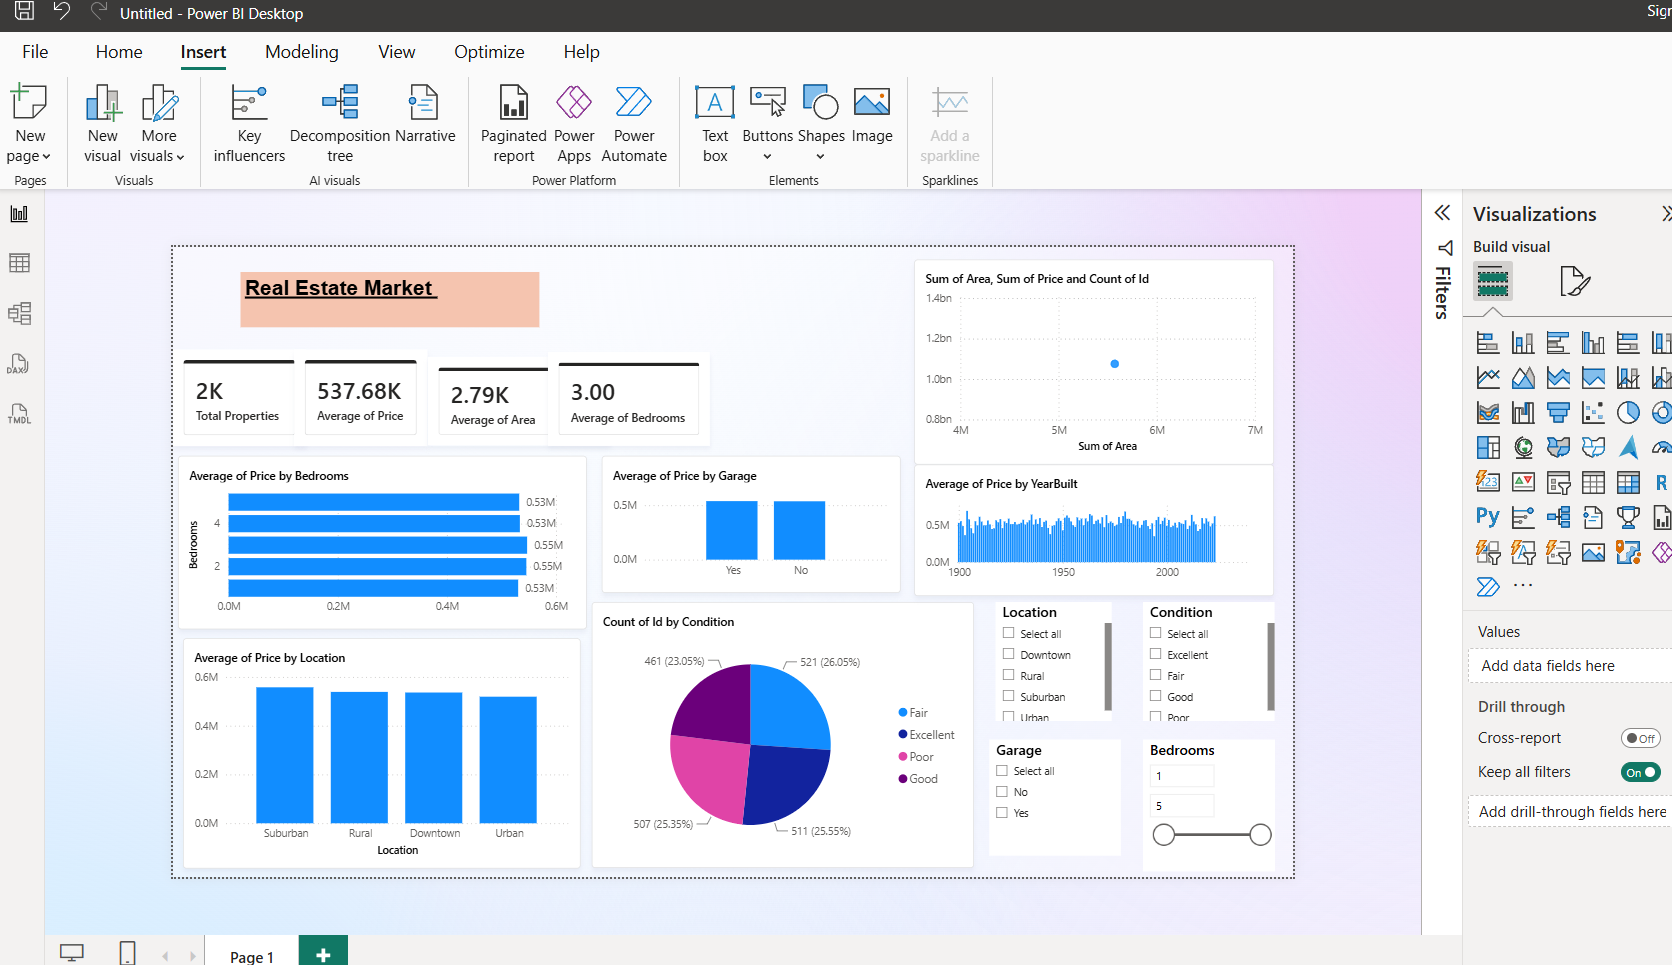

Layout of this report page (visuals, bound fields, positions):
{"tool":"powerbi","page":{"name":"Page 1","canvas":[1280,720],"ordinal":0},"visuals":[{"type":"cardVisual","fields":{"Data":["CountNonNull(House Price Prediction Dataset.Id)"]},"box":[0,117.1,152.9,110],"z":0},{"type":"cardVisual","fields":{"Data":["Avg(House Price Prediction Dataset.Price)"]},"box":[138.6,117.1,152.9,110],"z":1000},{"type":"cardVisual","fields":{"Data":["Avg(House Price Prediction Dataset.Area)"]},"box":[291.4,125.7,208.6,101.4],"z":2000},{"type":"cardVisual","fields":{"Data":["Avg(House Price Prediction Dataset.Bedrooms)"]},"box":[428.6,120,185.7,107.1],"z":3000},{"type":"clusteredColumnChart","fields":{"Category":["House Price Prediction Dataset.Location"],"Y":["Avg(House Price Prediction Dataset.Price)"]},"box":[11.4,447.1,454.3,262.9],"z":4000},{"type":"pieChart","fields":{"Category":["House Price Prediction Dataset.Condition"],"Y":["CountNonNull(House Price Prediction Dataset.Id)"]},"box":[478.6,405.7,437.1,304.3],"z":5000},{"type":"scatterChart","fields":{"X":["Sum(House Price Prediction Dataset.Area)"],"Y":["Sum(House Price Prediction Dataset.Price)"]},"box":[847.1,14.3,411.4,234.3],"z":6000},{"type":"clusteredBarChart","fields":{"Category":["House Price Prediction Dataset.Bedrooms"],"Y":["Avg(House Price Prediction Dataset.Price)"]},"box":[5.7,238.6,467.1,198.6],"z":7000},{"type":"clusteredColumnChart","fields":{"Category":["House Price Prediction Dataset.Garage"],"Y":["Avg(House Price Prediction Dataset.Price)"]},"box":[490,238.6,341.4,157.1],"z":8000},{"type":"clusteredColumnChart","fields":{"Category":["House Price Prediction Dataset.YearBuilt"],"Y":["Avg(House Price Prediction Dataset.Price)"]},"box":[847,248,411,150],"z":9000},{"type":"slicer","fields":{"Values":["House Price Prediction Dataset.Location"]},"box":[940,405.7,132.9,135.7],"z":9001},{"type":"slicer","fields":{"Values":["House Price Prediction Dataset.Condition"]},"box":[1108.6,405.7,150,135.7],"z":9002},{"type":"slicer","fields":{"Values":["House Price Prediction Dataset.Garage"]},"box":[932.9,562.9,150,132.9],"z":9003},{"type":"slicer","fields":{"Values":["House Price Prediction Dataset.Bedrooms"]},"box":[1109,563,150,150],"z":9004},{"type":"textbox","box":[77.1,28.6,341.4,62.9],"z":9005}]}

Visuals, with their boxes on the page's 1280x720 design canvas (x1, y1, x2, y2). These are canvas units, not pixel positions in the 1672x965 screenshot, which may show the page scaled, cropped or inside an application window:
cardVisual - CountNonNull(House Price Prediction Dataset.Id): detection(0, 117, 153, 227)
cardVisual - Avg(House Price Prediction Dataset.Price): detection(139, 117, 292, 227)
cardVisual - Avg(House Price Prediction Dataset.Area): detection(291, 126, 500, 227)
cardVisual - Avg(House Price Prediction Dataset.Bedrooms): detection(429, 120, 614, 227)
clusteredColumnChart - House Price Prediction Dataset.Location x Avg(House Price Prediction Dataset.Price): detection(11, 447, 466, 710)
pieChart - House Price Prediction Dataset.Condition x CountNonNull(House Price Prediction Dataset.Id): detection(479, 406, 916, 710)
scatterChart - Sum(House Price Prediction Dataset.Area) x Sum(House Price Prediction Dataset.Price): detection(847, 14, 1258, 249)
clusteredBarChart - House Price Prediction Dataset.Bedrooms x Avg(House Price Prediction Dataset.Price): detection(6, 239, 473, 437)
clusteredColumnChart - House Price Prediction Dataset.Garage x Avg(House Price Prediction Dataset.Price): detection(490, 239, 831, 396)
clusteredColumnChart - House Price Prediction Dataset.YearBuilt x Avg(House Price Prediction Dataset.Price): detection(847, 248, 1258, 398)
slicer - House Price Prediction Dataset.Location: detection(940, 406, 1073, 541)
slicer - House Price Prediction Dataset.Condition: detection(1109, 406, 1259, 541)
slicer - House Price Prediction Dataset.Garage: detection(933, 563, 1083, 696)
slicer - House Price Prediction Dataset.Bedrooms: detection(1109, 563, 1259, 713)
textbox: detection(77, 29, 418, 92)
